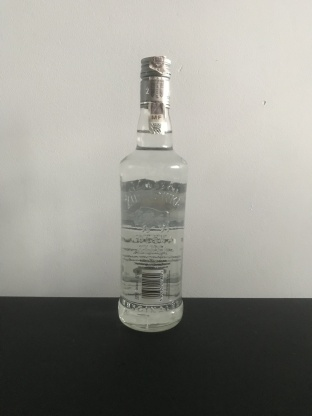nakretka: (138, 53, 172, 109)
